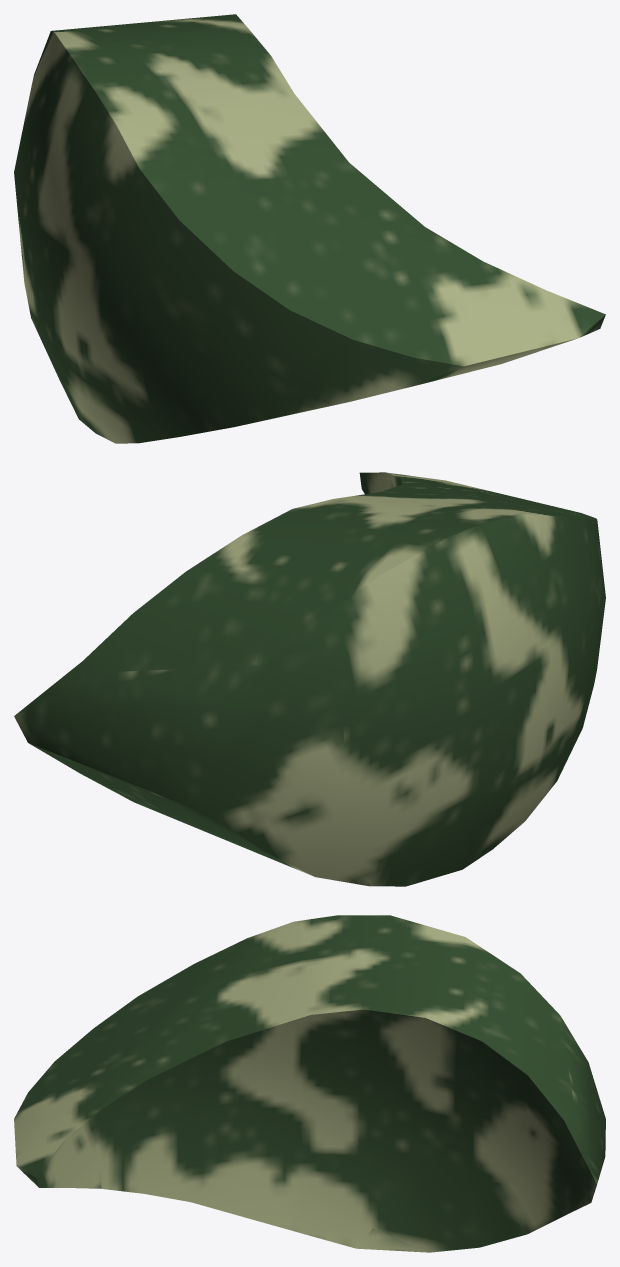
File: link_body_26.obj
3 renders of one model, top to bottom at view 1: azimuth 30°, elevation 25°; view 2: azimuth 150°, elevation 25°; view 3: azimuth 270°, elevation 25°, orthographic. The views are drawn at different scales.
Visible parts, largest first — view 1: link_body_26; view 2: link_body_26; view 3: link_body_26.
Part boxes in pixels (x1=…): link_body_26: x1=14, y1=14, x2=605, y2=443; link_body_26: x1=14, y1=472, x2=605, y2=886; link_body_26: x1=14, y1=915, x2=605, y2=1252.
Size of the model in its own units: 7.46 by 6.64 by 12.5.
